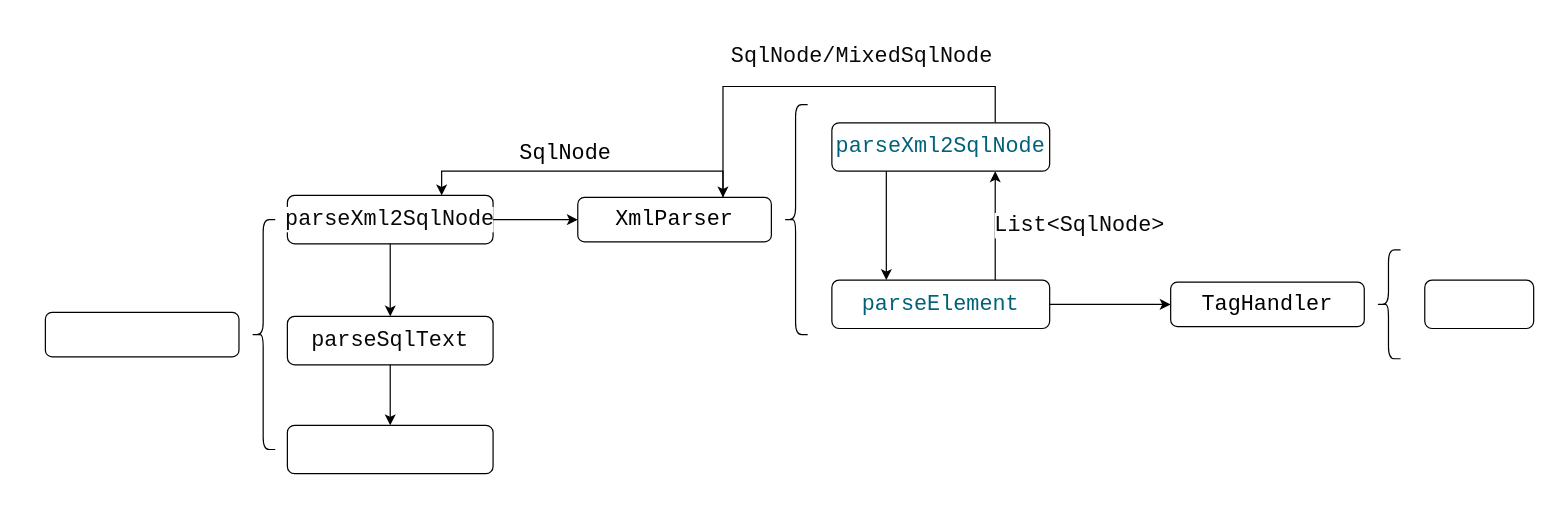
Some shapes in this 1555 by 505 pixel diagram are drawn without their labels. Here are the shapes that lost their labels. From the top down, the centre of each, then its label:
At pixel 1479 304: "handle".
At pixel 141 334: "DynamicSqlEngine".
At pixel 389 449: "parseParameter".
